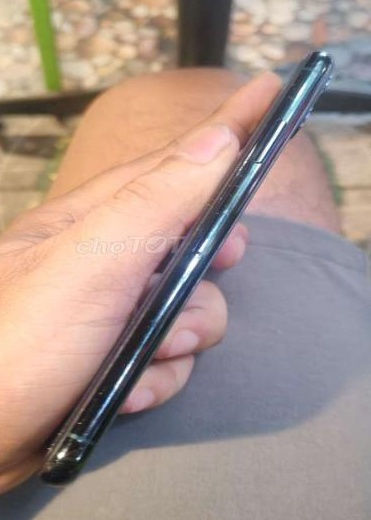scratch: (176, 176, 253, 223), (46, 420, 97, 466)
